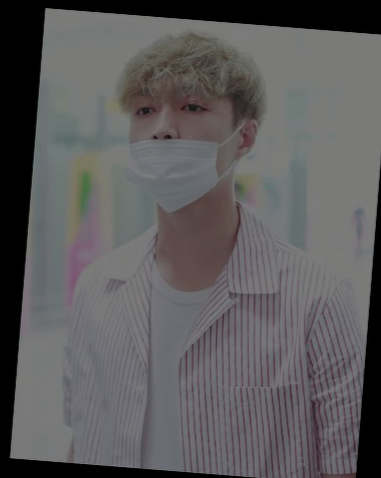mask_weared_incorrect: (122, 95, 232, 216)
